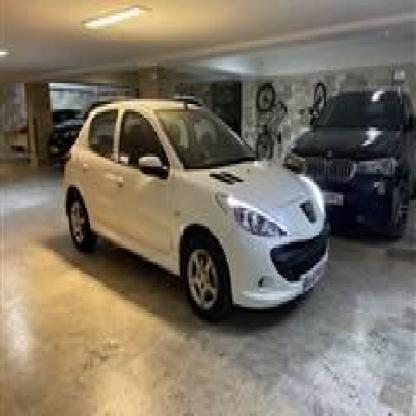Car: (64, 96, 331, 328), (286, 81, 416, 239)
